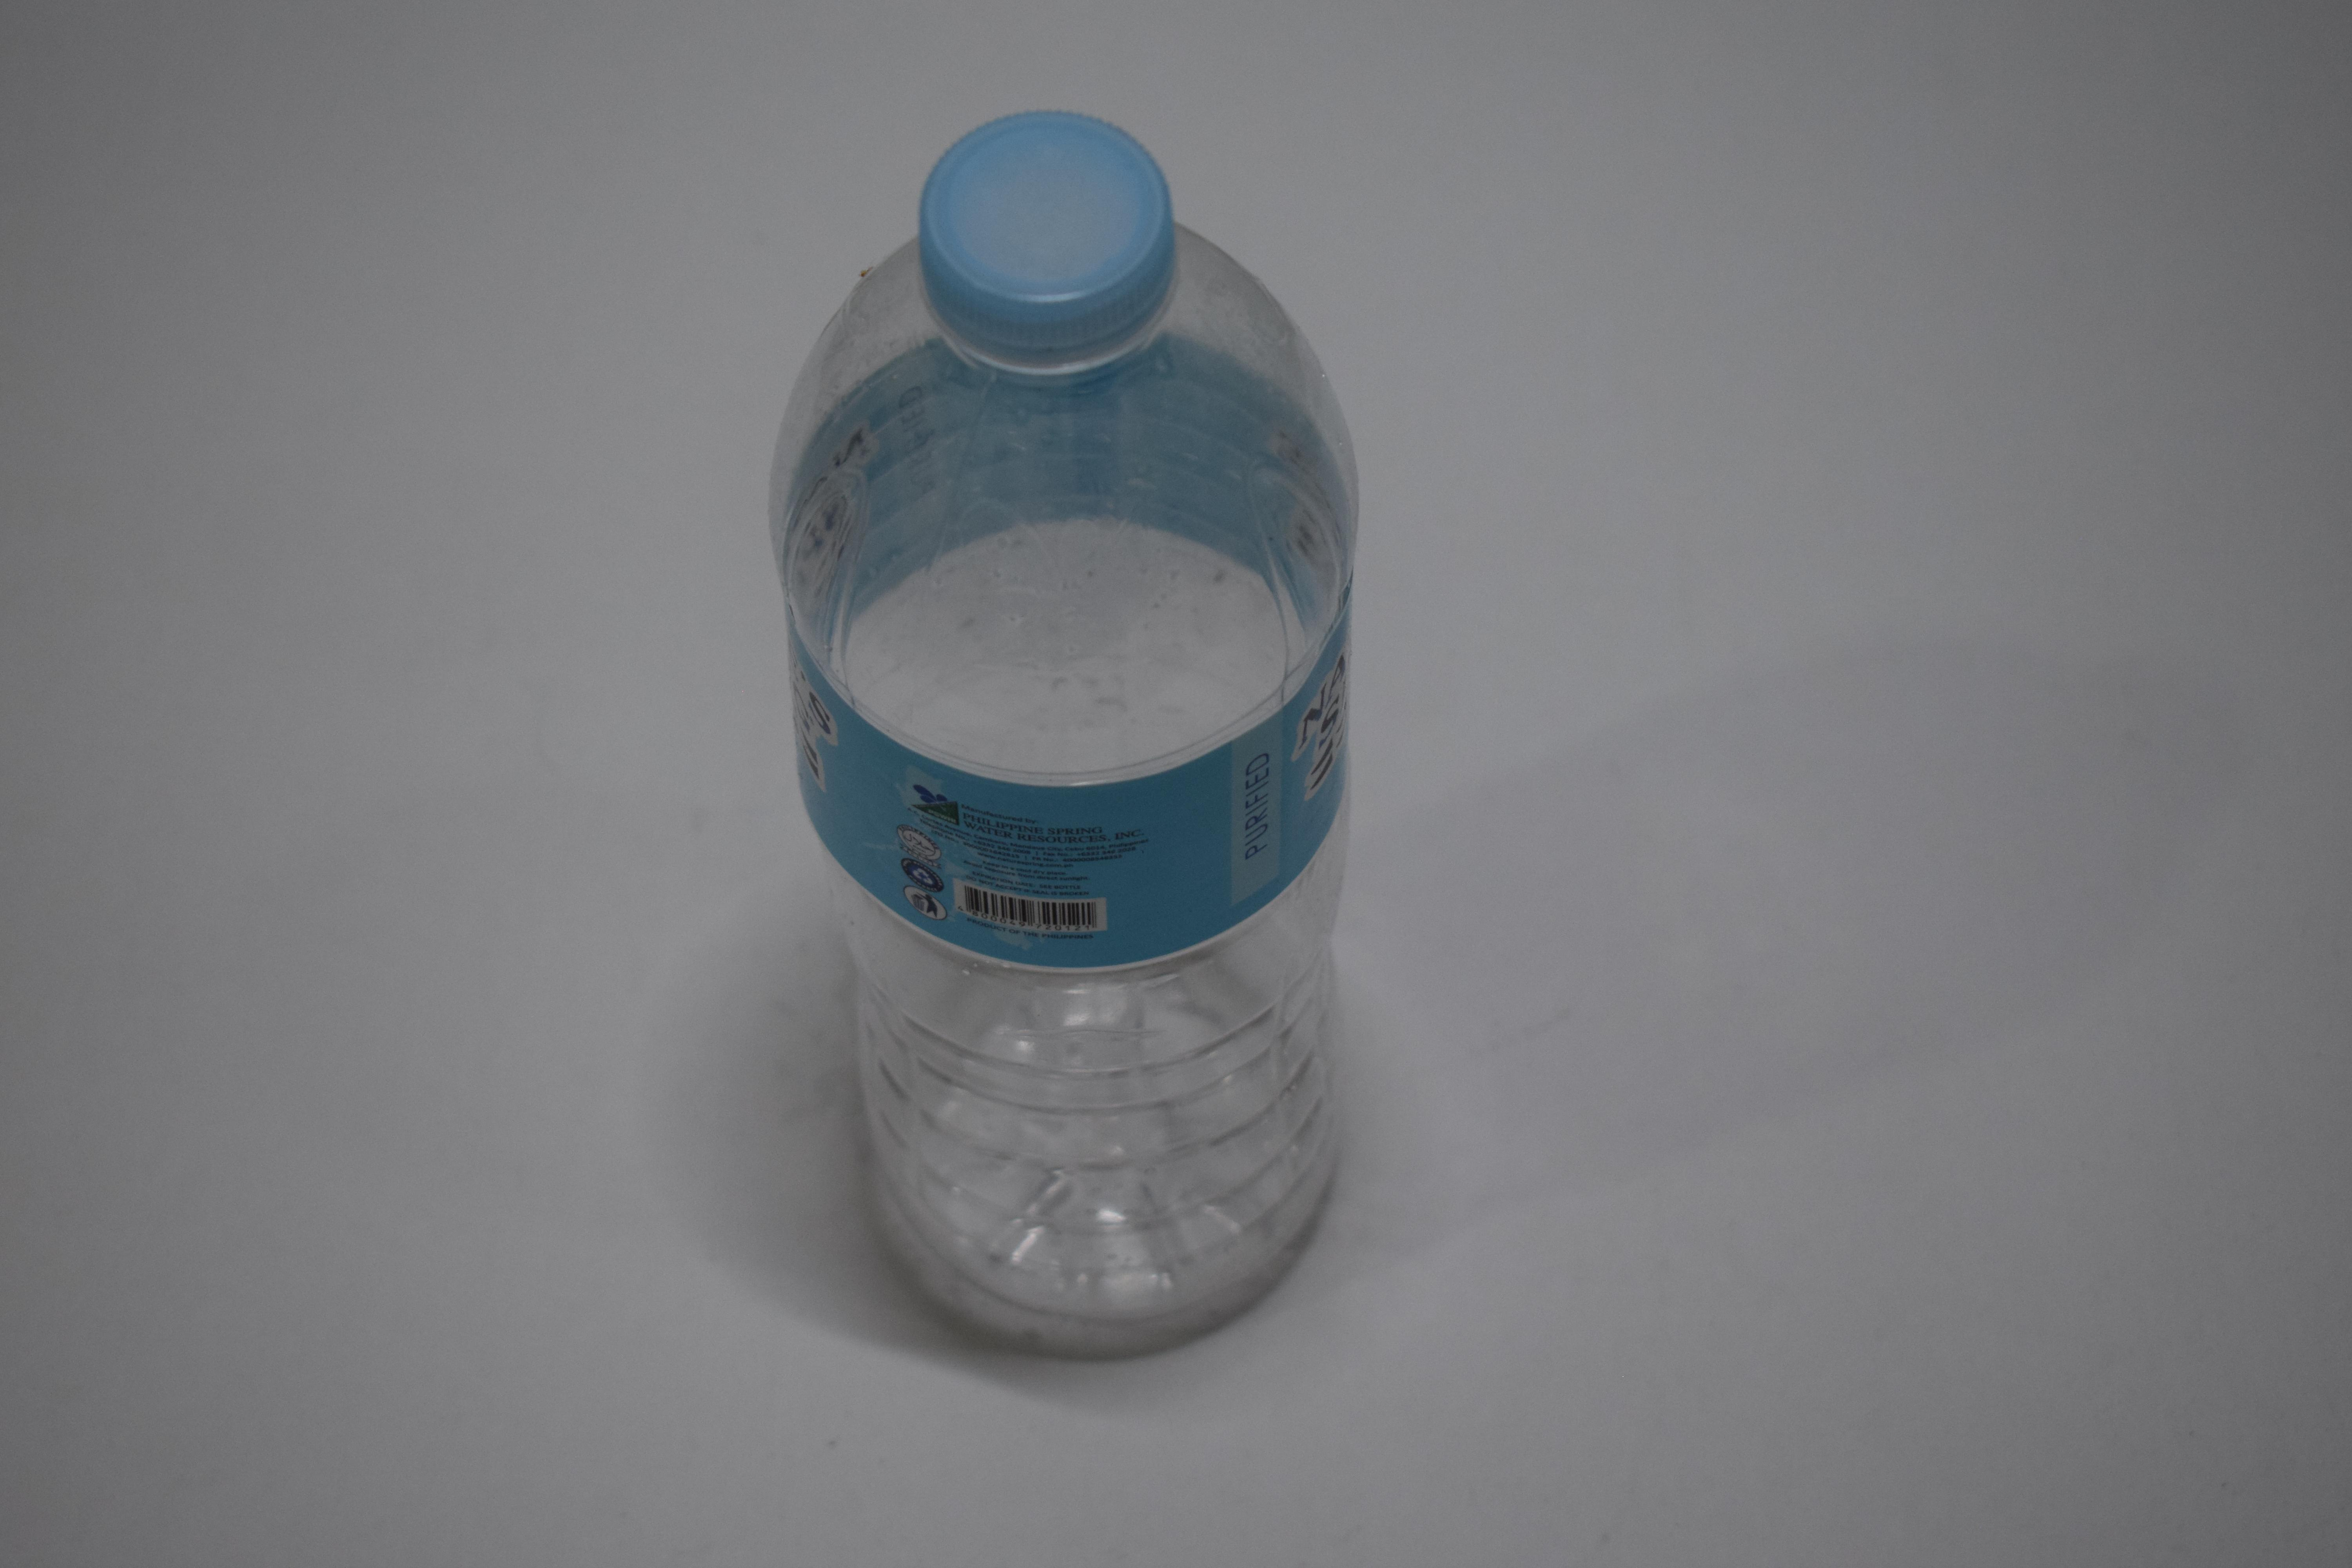bottle: (710, 16, 1181, 1239)
